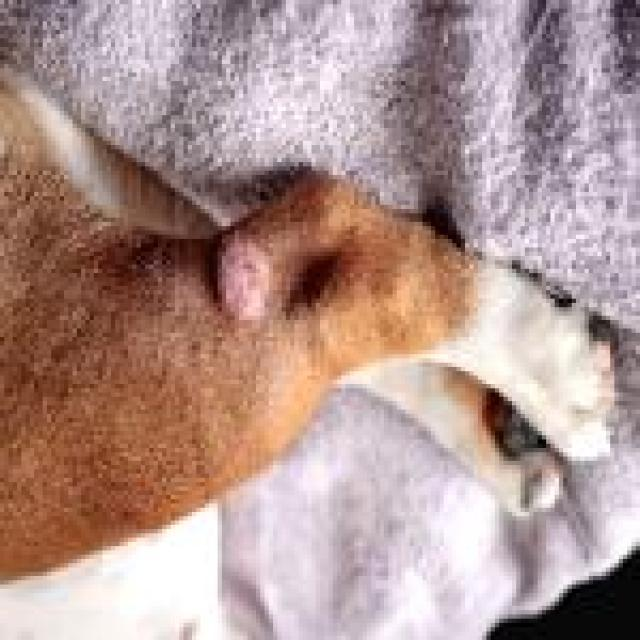fungal infection: (211, 242, 280, 322)
